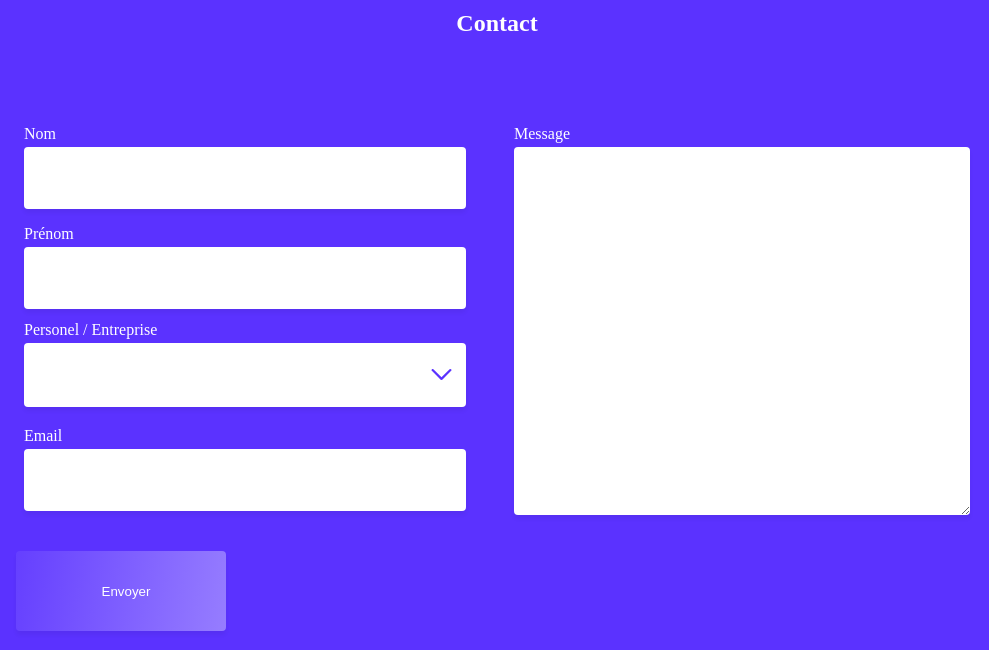
Test: Contact form e2e › remplit et soumet le formulaire, puis affiche le message de succès
The image size is (989, 650).
(page scrolled)
Type "Dupont" into the 1st field at (245, 178), box x1=24 y1=147 x2=466 y2=209
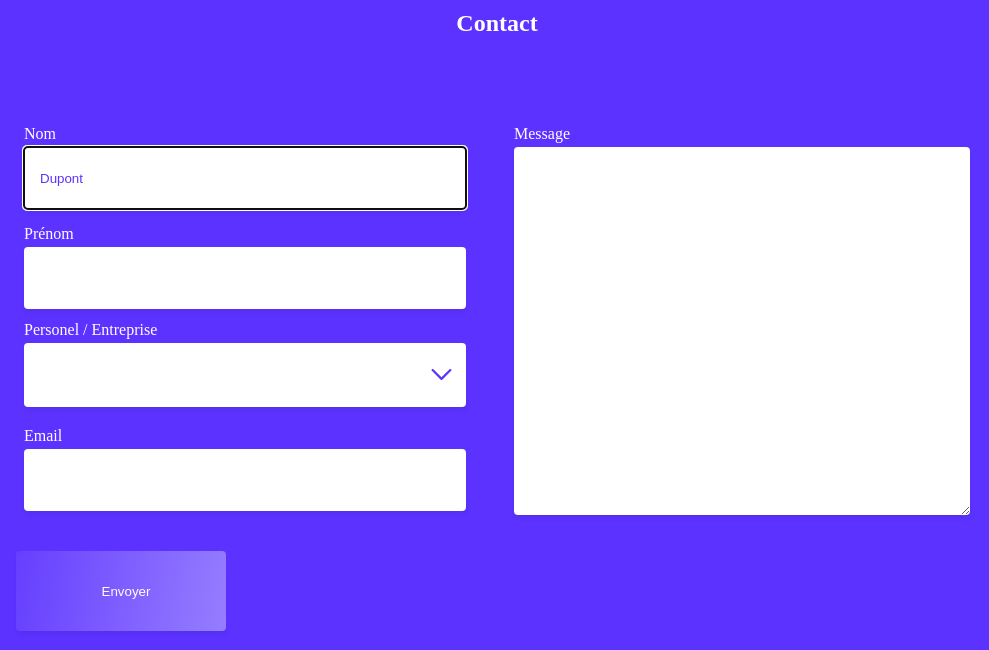
Type "Jean" into the field below "Prénom" at (245, 278), box x1=24 y1=247 x2=466 y2=309
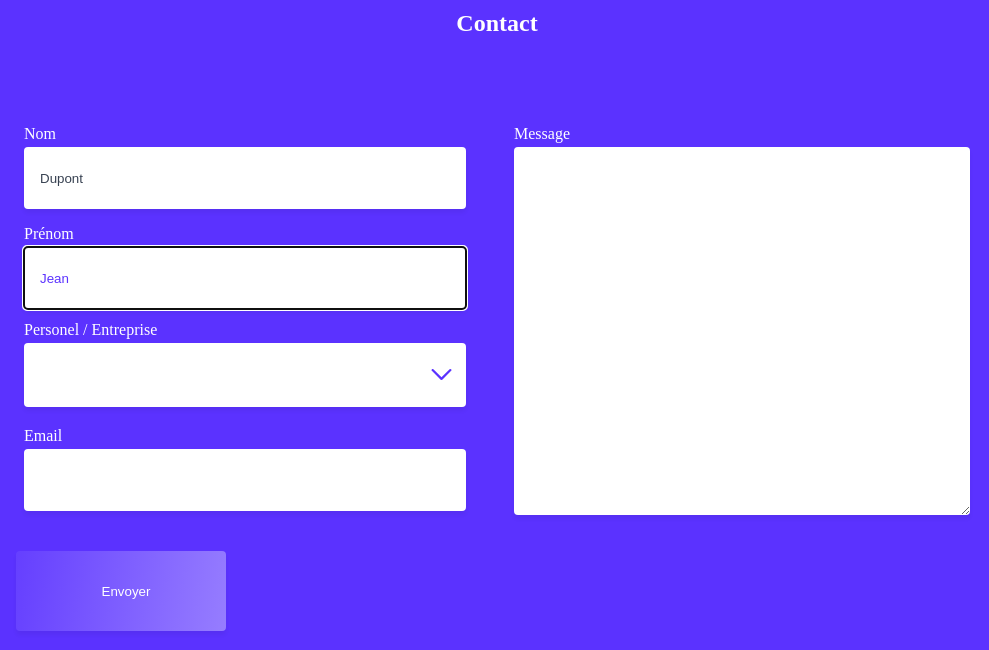
Type "Bonjour, je souhaite un devis." into the text box at (742, 331), box x1=514 y1=147 x2=970 y2=515
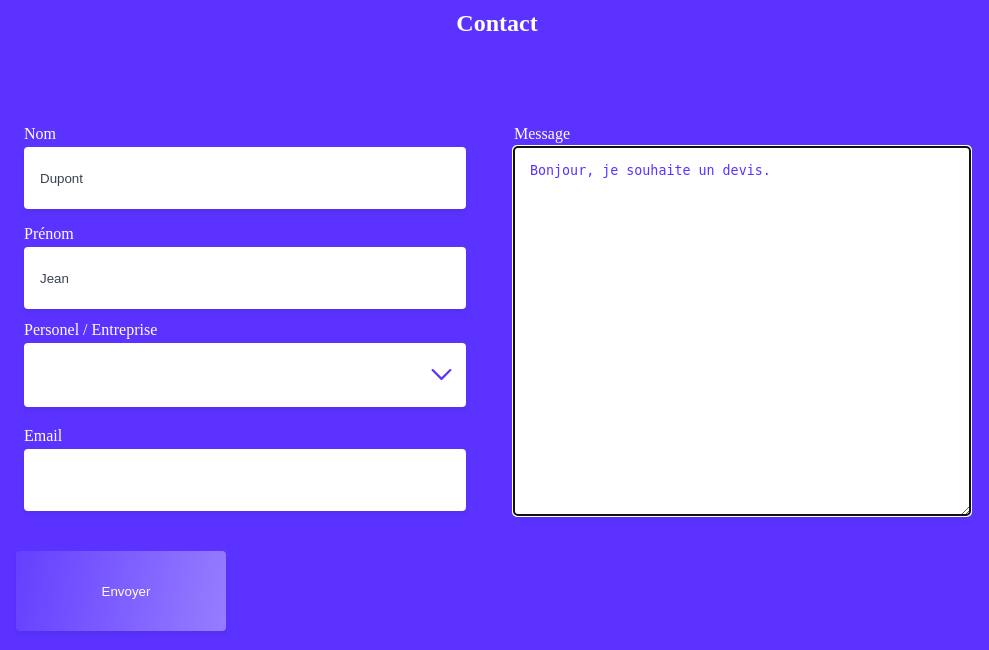
Click the submit button at (121, 591), box x1=16 y1=551 x2=226 y2=631
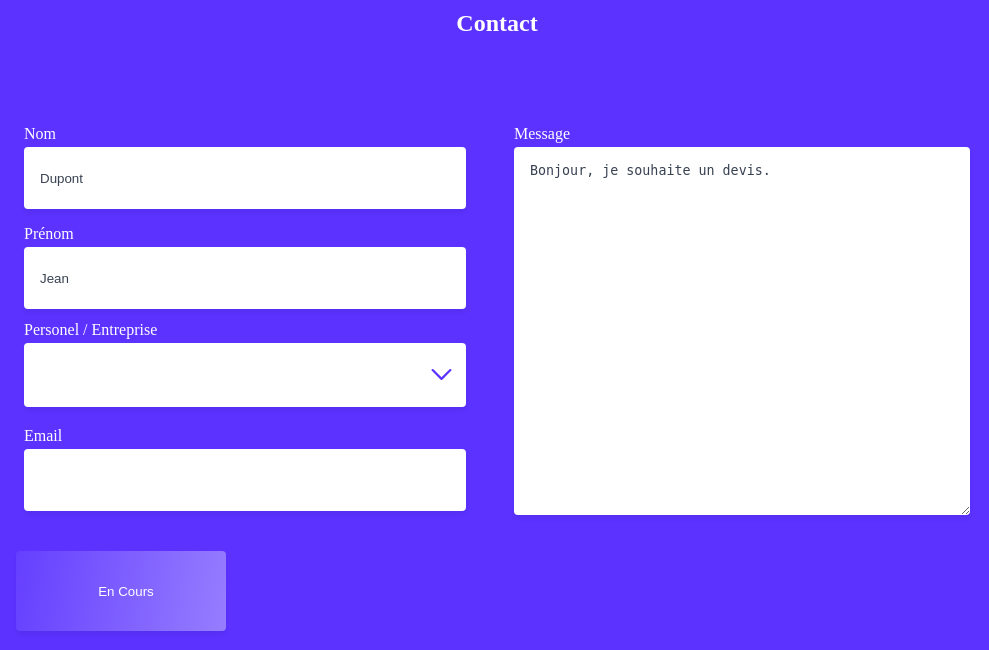
Expected: the button "En cours" is shown, x1=16 y1=551 x2=226 y2=631
Wait "500"
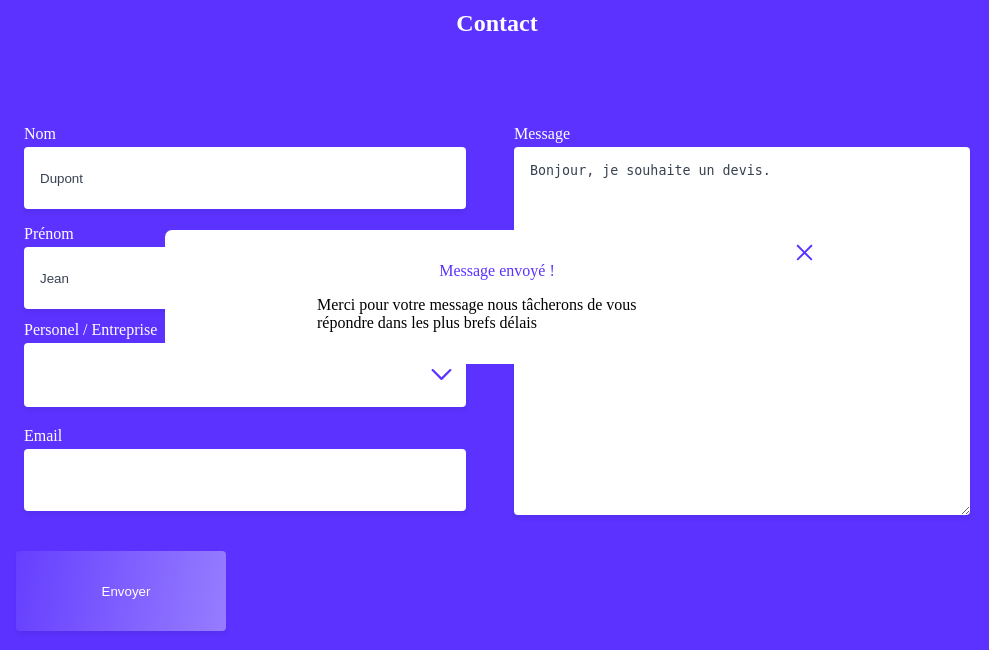
Expected: the text "Message envoyé !" is shown, x1=439 y1=262 x2=555 y2=280
